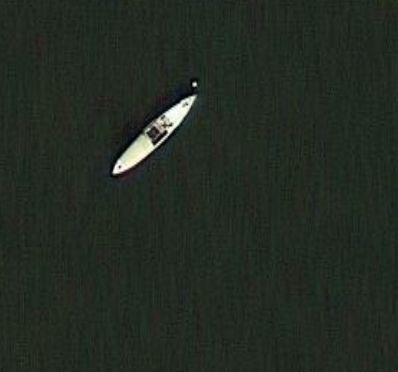boat: (106, 90, 201, 179)
